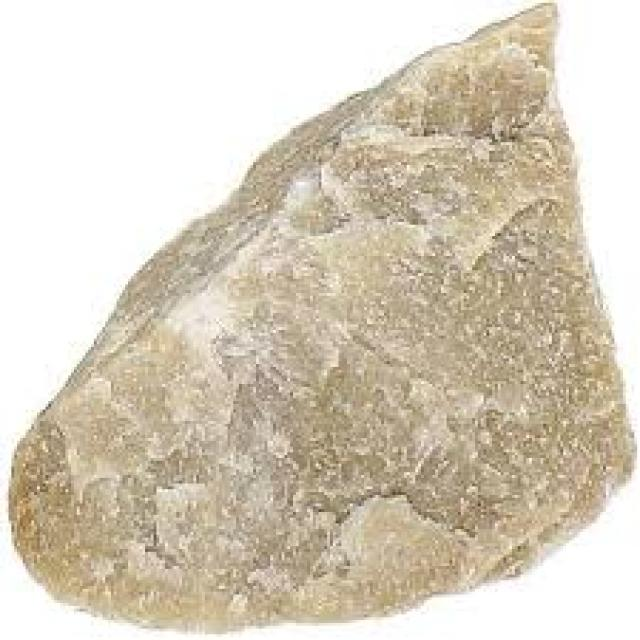Metamorphic: (3, 3, 637, 631)
